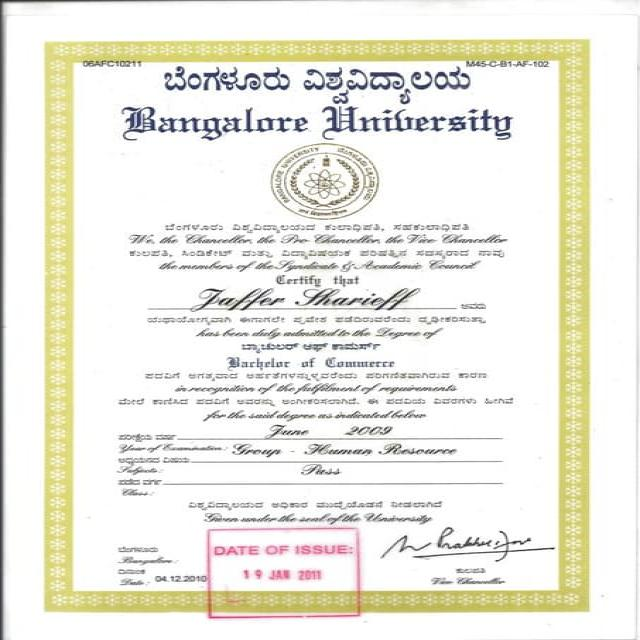degree: (220, 352, 404, 372)
signature: (377, 522, 541, 564)
stamp: (268, 143, 408, 223)
